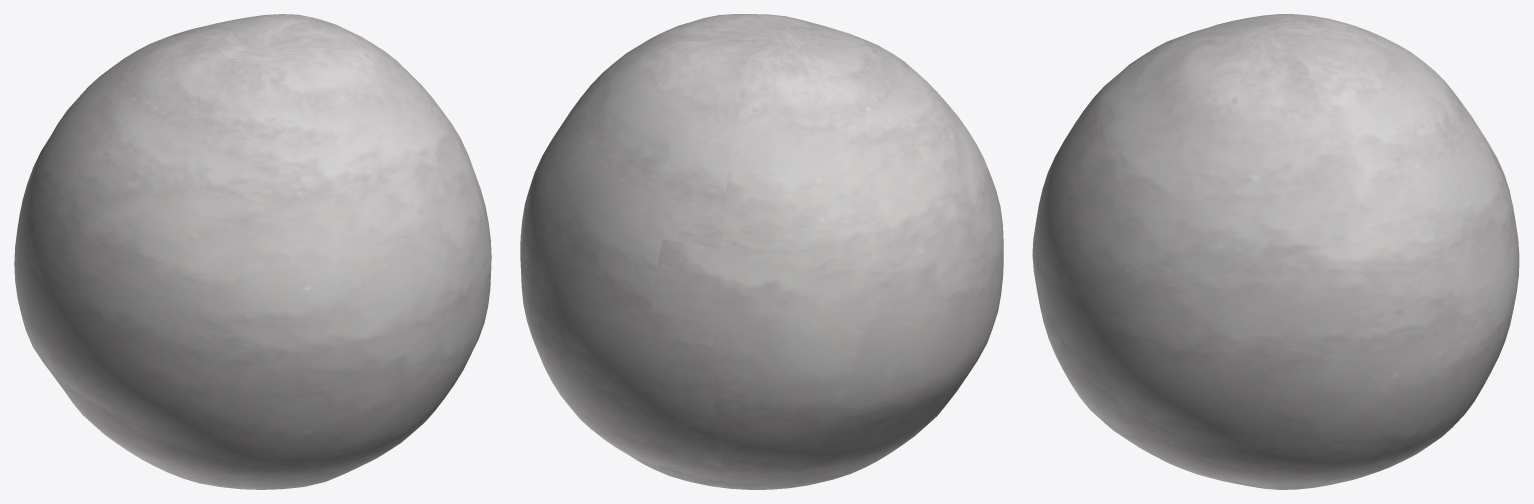
File: Snowball.fbx
3 views of the same model, side by side, from view 1: azimuth 30°, elevation 25°; view 2: azimuth 150°, elevation 25°; view 3: azimuth 270°, elevation 25° (orthographic).
Parts seen in each view (by area): view 1: Snowball; view 2: Snowball; view 3: Snowball.
Boxes of the visible parts, bbox=[...] form: Snowball: bbox=[14, 14, 491, 489]; Snowball: bbox=[520, 14, 1003, 489]; Snowball: bbox=[1032, 14, 1519, 489].
Size of the model in its own units: 7.47 by 7.33 by 7.57.
